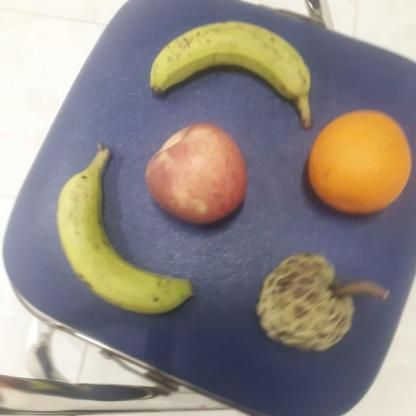annona: (254, 250, 357, 354)
apple: (145, 119, 252, 224)
banana: (50, 147, 193, 315), (145, 20, 316, 116)
orange: (302, 109, 412, 217)
